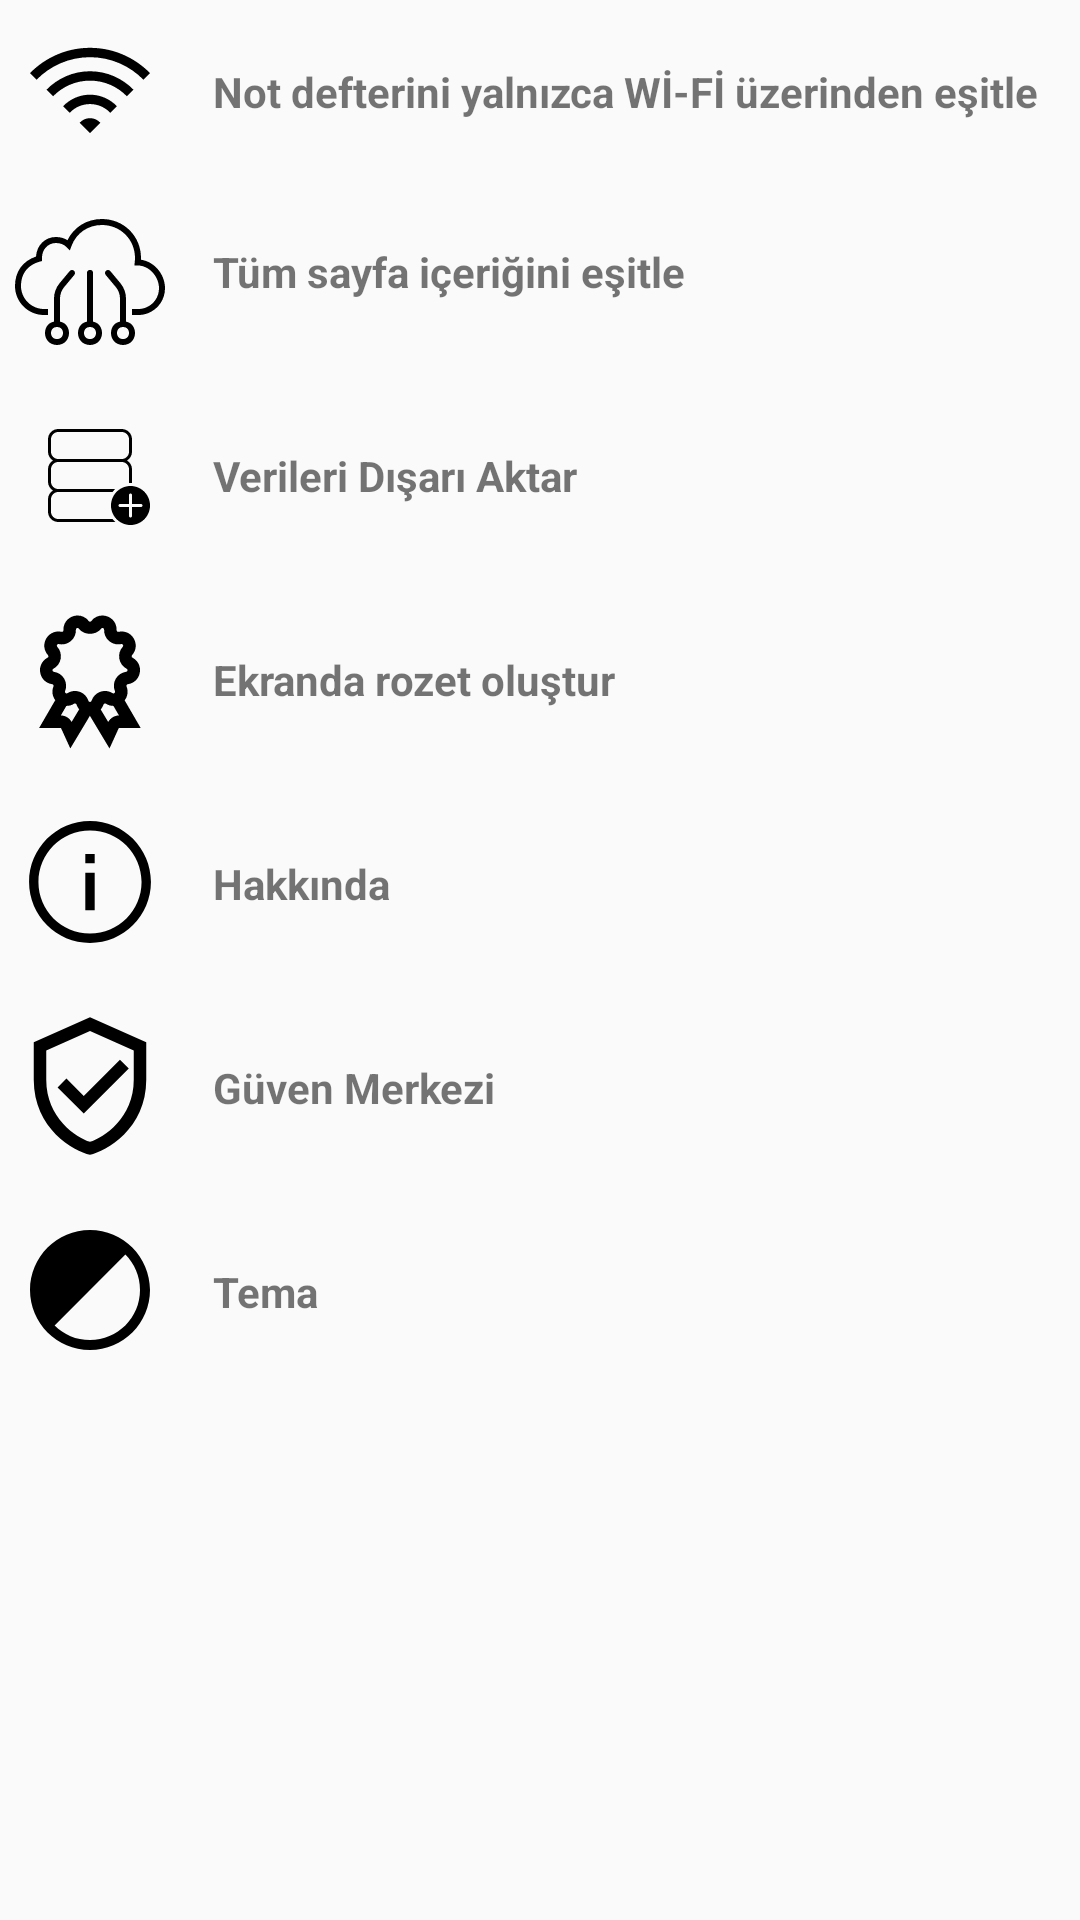

Icons on this 1080w x 1920h Android screen, each with its box as (x1=x1, y1=y1, x2=x2, y2=y2):
about: (x1=29, y1=821, x2=151, y2=943)
badge: (x1=39, y1=615, x2=141, y2=749)
cloud: (x1=15, y1=219, x2=165, y2=345)
data: (x1=48, y1=429, x2=150, y2=525)
security: (x1=33, y1=1017, x2=147, y2=1155)
theme: (x1=30, y1=1230, x2=150, y2=1350)
